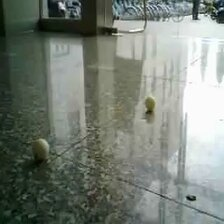w: (32, 138, 50, 161), (145, 95, 156, 111)
